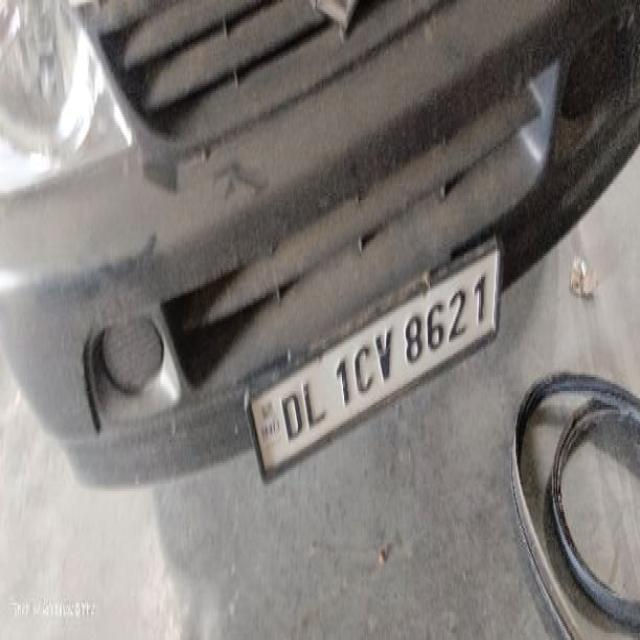license_plate: (245, 230, 503, 477)
